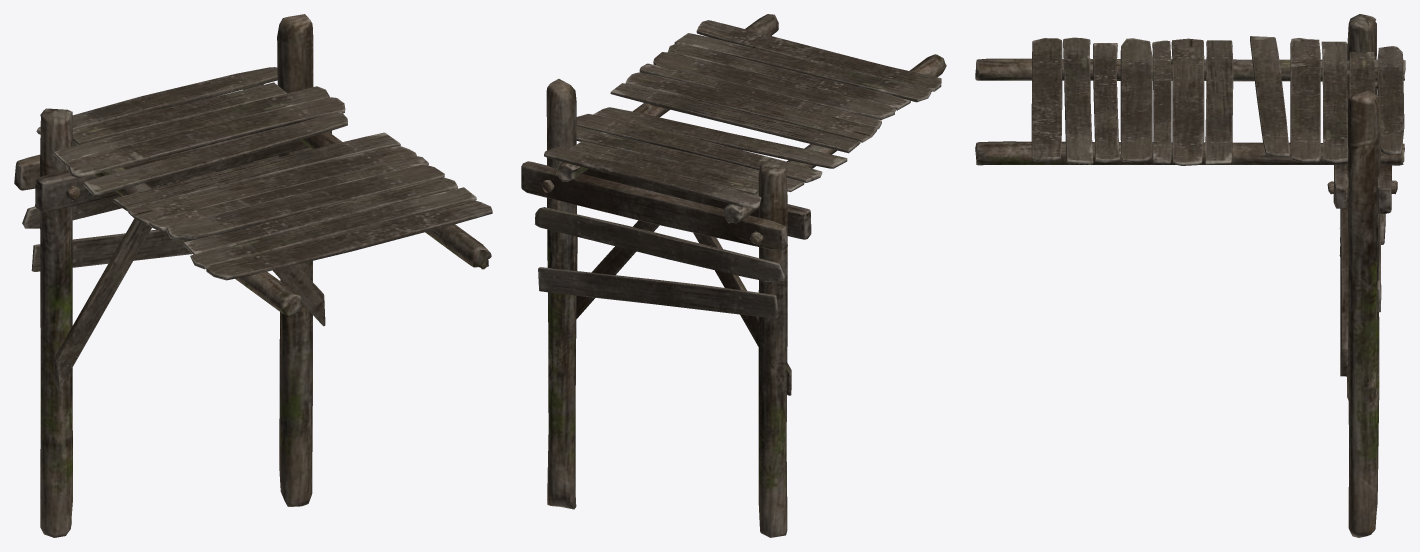
The picture shows the model from 3 angles, left to right: view 1: azimuth 30°, elevation 25°; view 2: azimuth 150°, elevation 25°; view 3: azimuth 270°, elevation 25°; orthographic projection. The views are drawn at different scales.
Visible parts, largest first — view 1: modular_wooden_pier_kit__e_lod1; view 2: modular_wooden_pier_kit__e_lod1; view 3: modular_wooden_pier_kit__e_lod1.
Boxes of the visible parts, box(x1,y1,x2,y2) form: modular_wooden_pier_kit__e_lod1: box(14, 14, 492, 537); modular_wooden_pier_kit__e_lod1: box(521, 14, 946, 537); modular_wooden_pier_kit__e_lod1: box(975, 14, 1405, 537).
Size of the model in its own units: 2.49 by 3.83 by 3.39.
2 materials, 2 textured.
